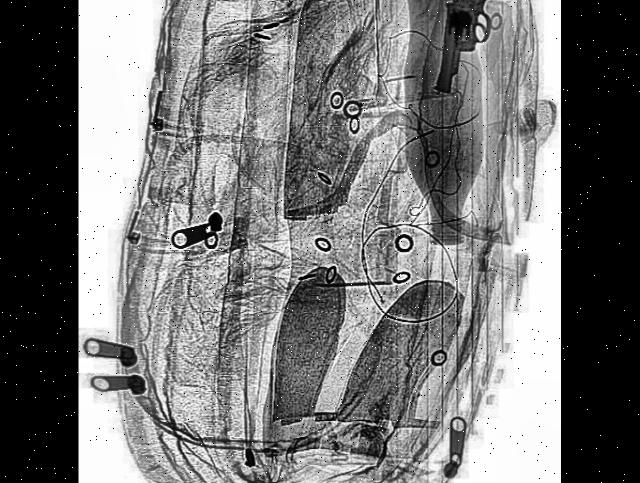Gun: (434, 0, 512, 105)
